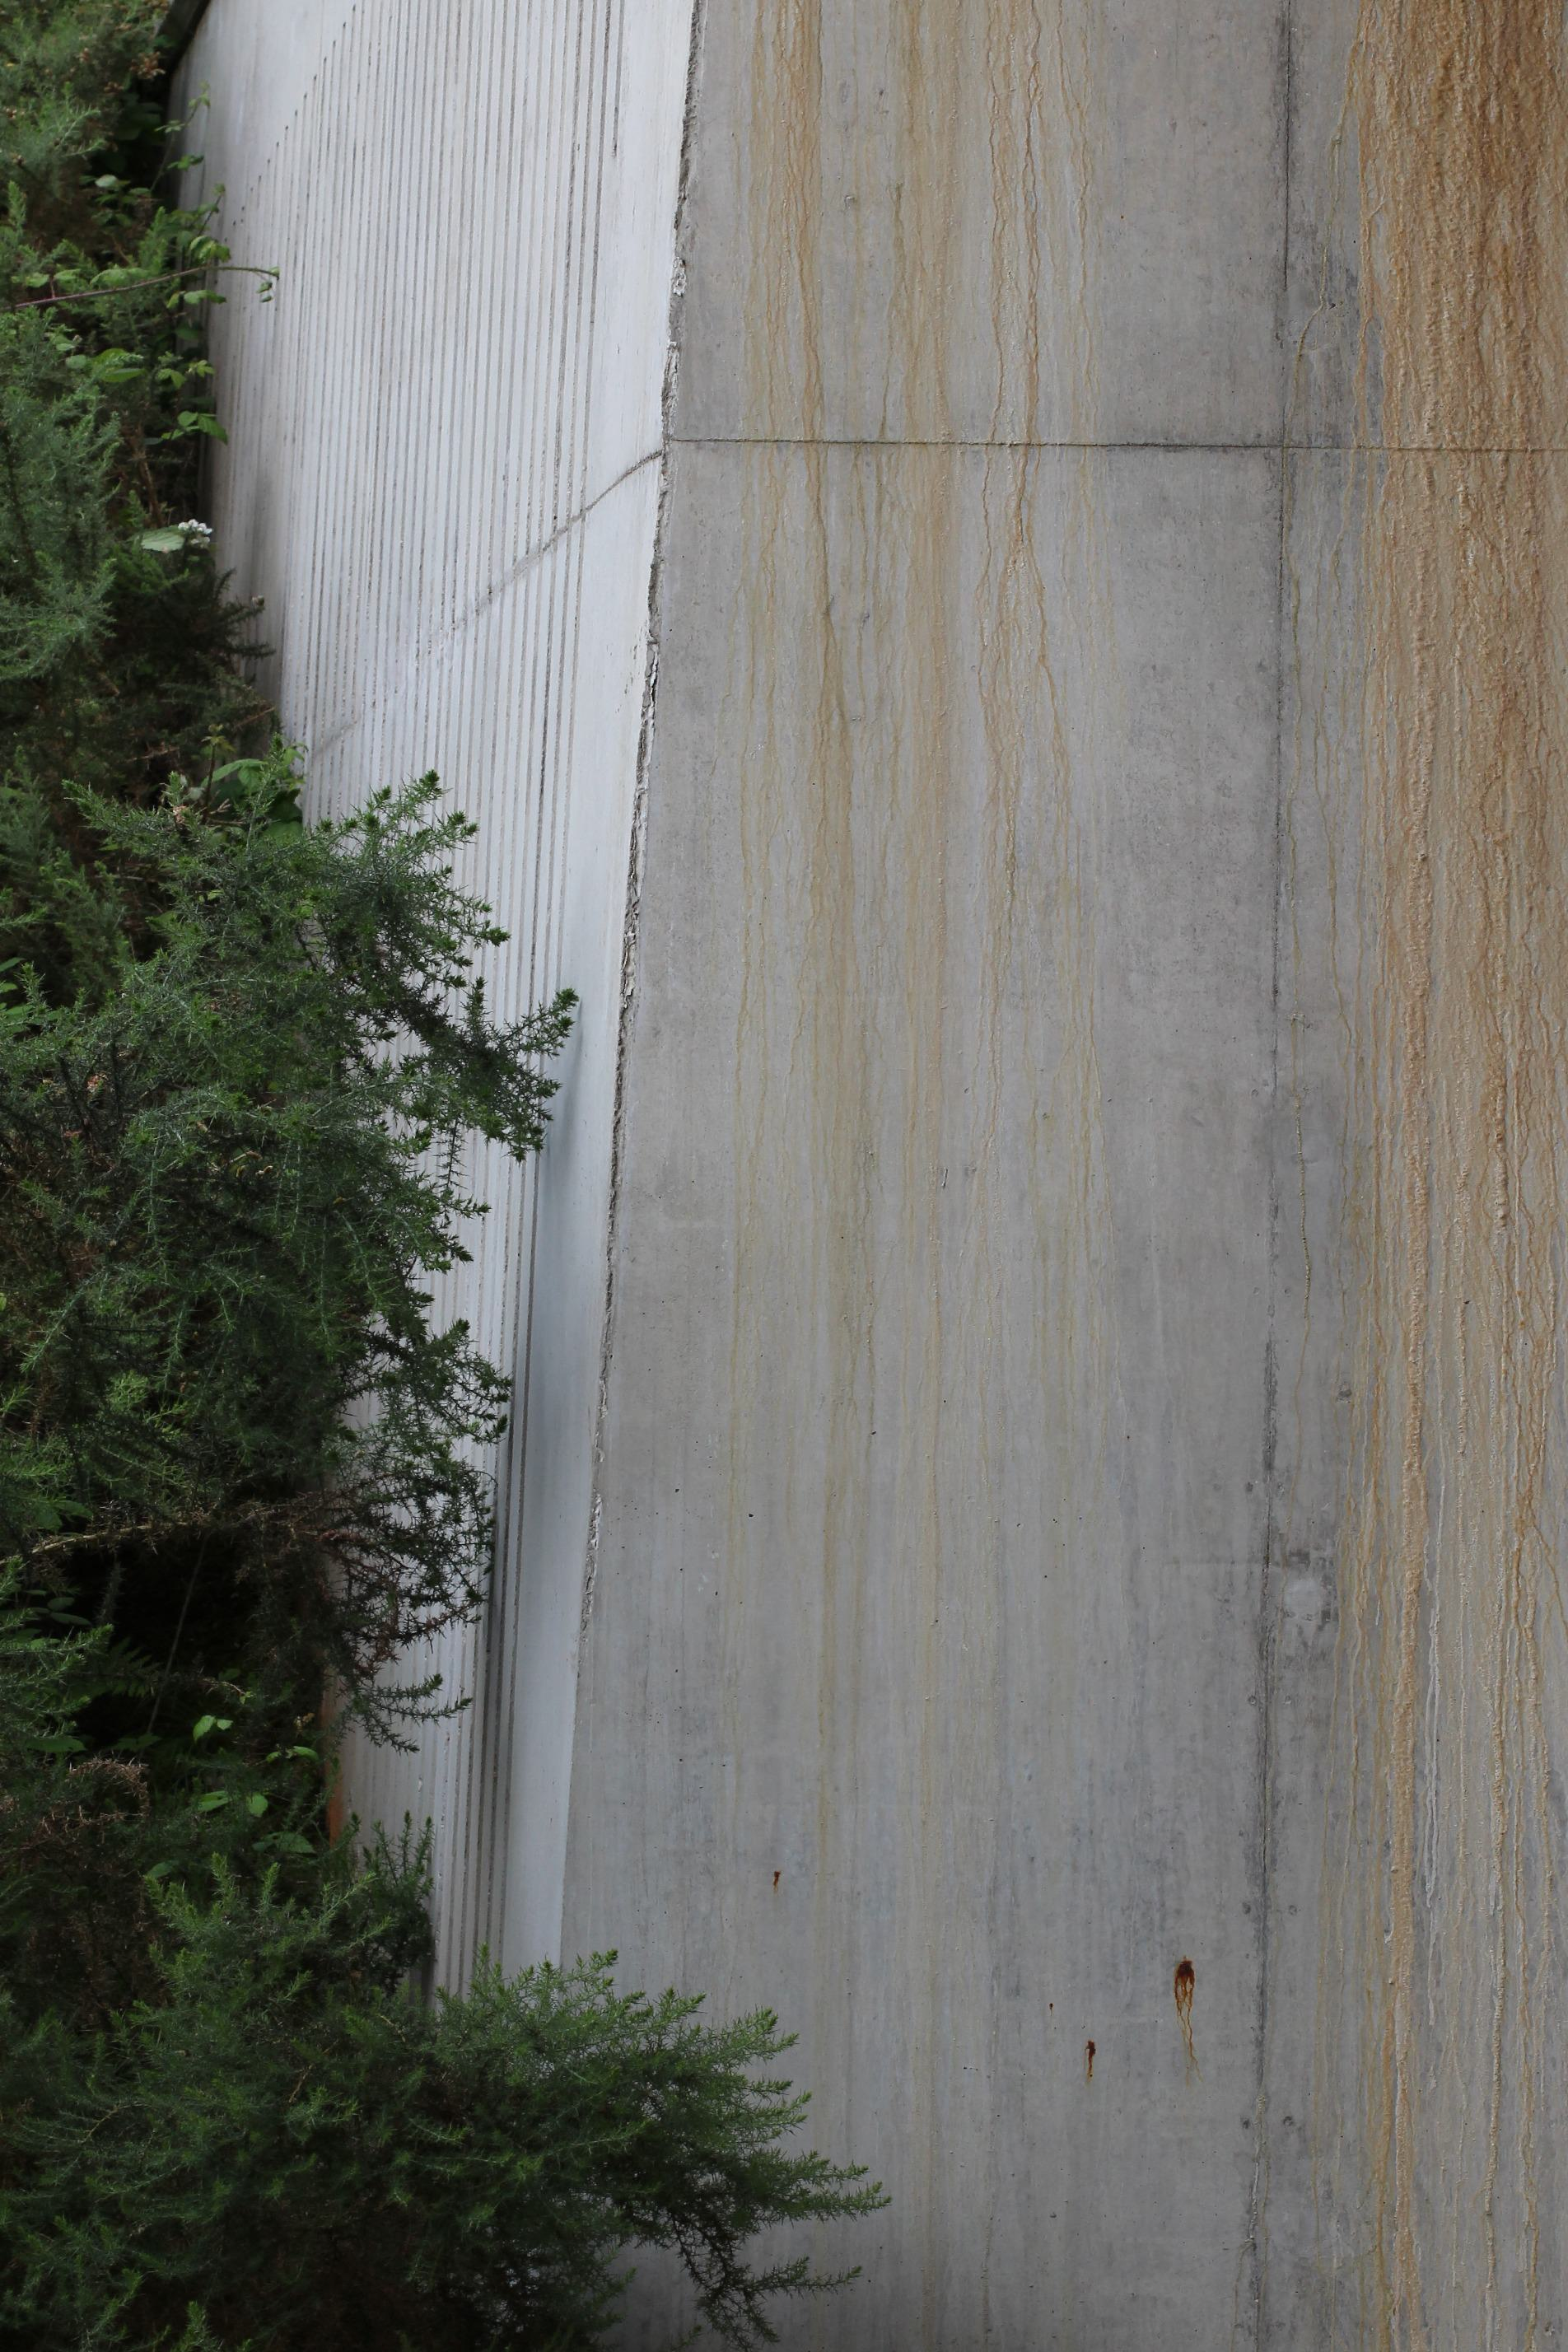Corrosion: (737, 0, 1120, 2100), (1349, 0, 1568, 2352), (1174, 1960, 1202, 2088), (1083, 2040, 1097, 2075)
Spalling: (579, 0, 702, 1634)
